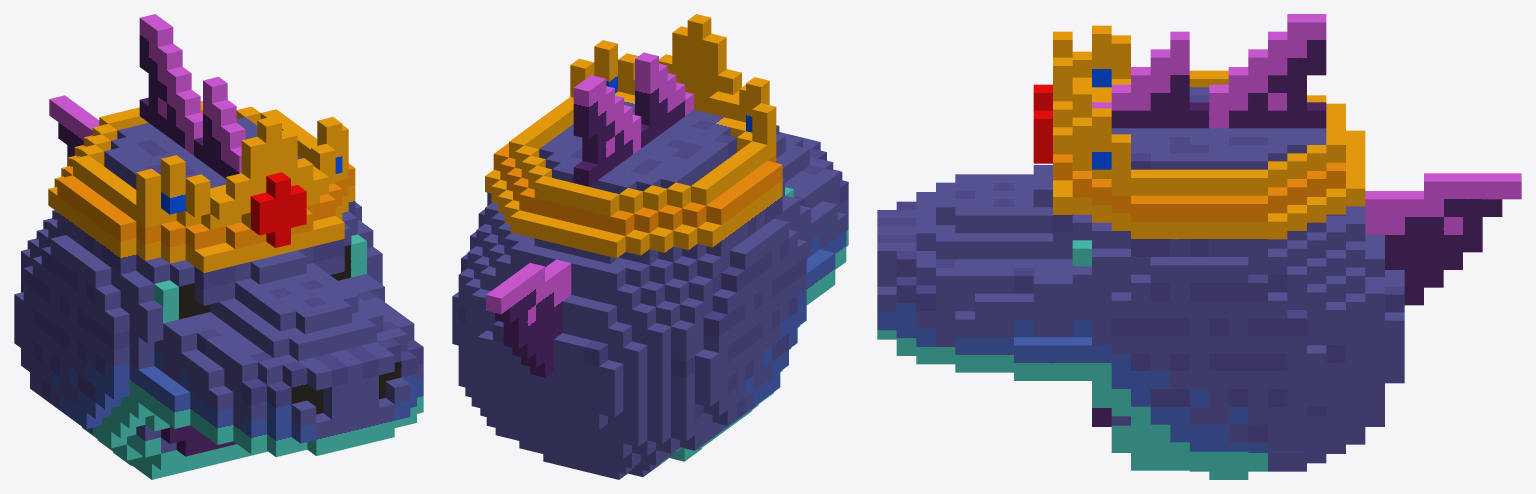
File: queen crown_eye patch.gltf
3 views of the same model, side by side, from view 1: azimuth 30°, elevation 25°; view 2: azimuth 150°, elevation 25°; view 3: azimuth 270°, elevation 25° (orthographic). The views are drawn at different scales.
Visible parts, largest first — view 1: C36_H_QueenC_EyeP_Skydiving-Mesh; view 2: C36_H_QueenC_EyeP_Skydiving-Mesh; view 3: C36_H_QueenC_EyeP_Skydiving-Mesh.
Part boxes in pixels (x1,y1,x2,y2): C36_H_QueenC_EyeP_Skydiving-Mesh: (14,14,423,479); C36_H_QueenC_EyeP_Skydiving-Mesh: (452,14,848,479); C36_H_QueenC_EyeP_Skydiving-Mesh: (877,14,1521,479).
Bounding box in the file's own units: 17 × 24 × 33.
1 material, 1 textured.
